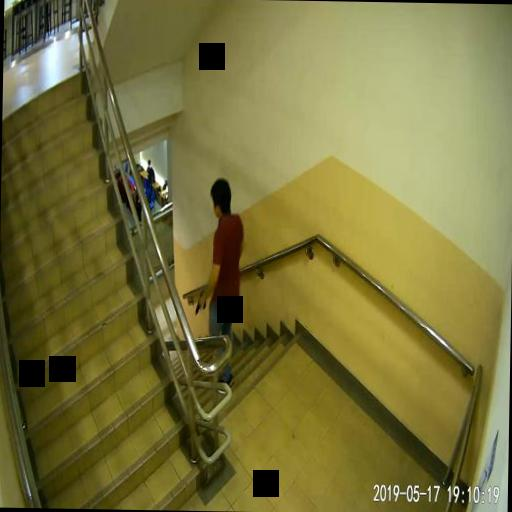Handgun: (194, 290, 204, 312)
